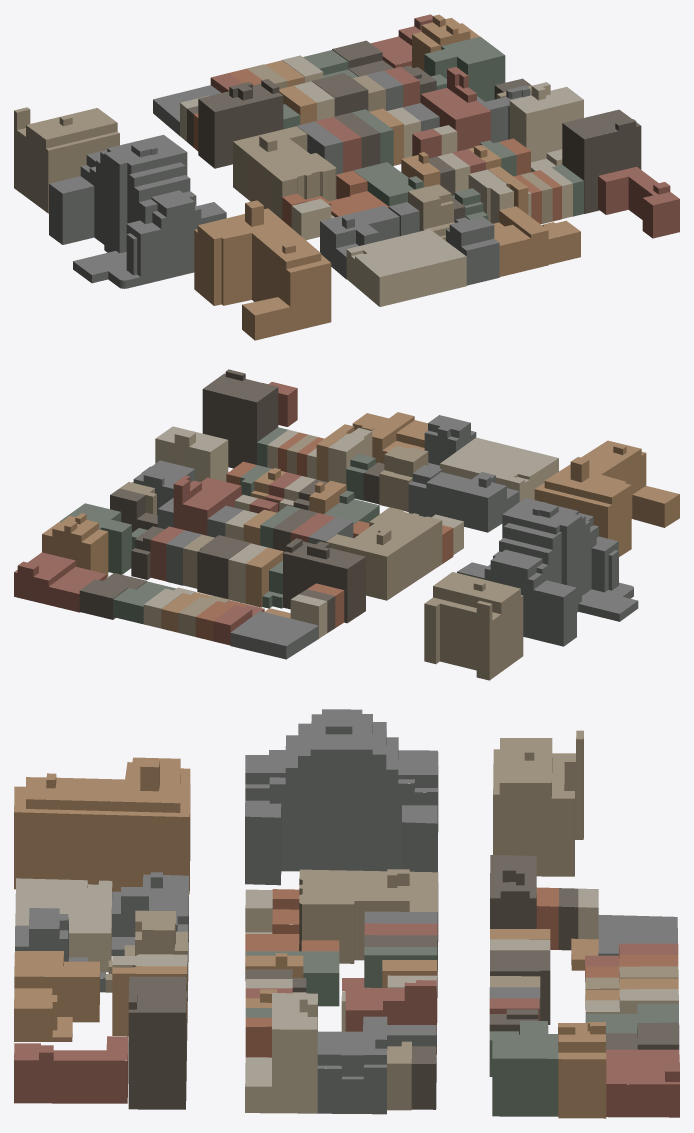
The model's file is tile--5_-5.glb.
3 renders of one model, top to bottom at view 1: azimuth 30°, elevation 25°; view 2: azimuth 150°, elevation 25°; view 3: azimuth 270°, elevation 25°, orthographic. The views are drawn at different scales.
Parts seen in each view (by area): view 1: wall, roof; view 2: wall, roof; view 3: wall, roof.
Boxes of the visible parts, x1,y1,x2,y2 form: wall: (14, 16, 679, 340); roof: (14, 14, 679, 315); wall: (14, 371, 679, 680); roof: (14, 369, 679, 645); wall: (14, 725, 679, 1118); roof: (14, 709, 679, 1086).
Size of the model in its own units: 206 by 40.86 by 185.
